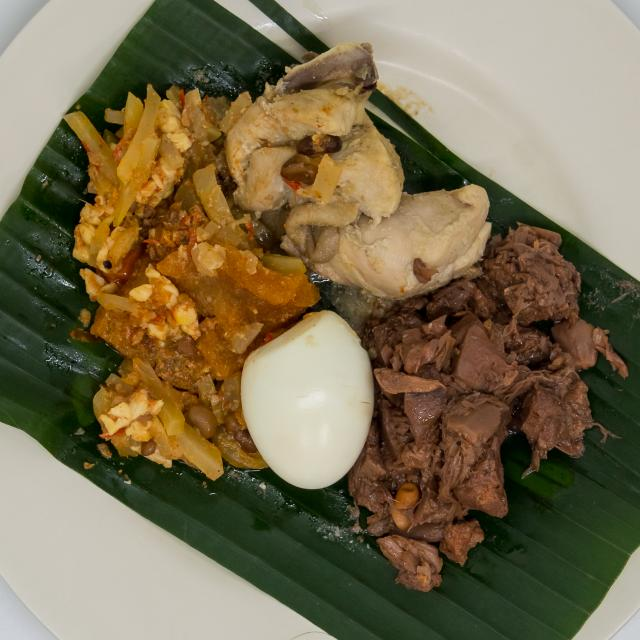Gudeg-Jogja: (50, 27, 613, 598)
